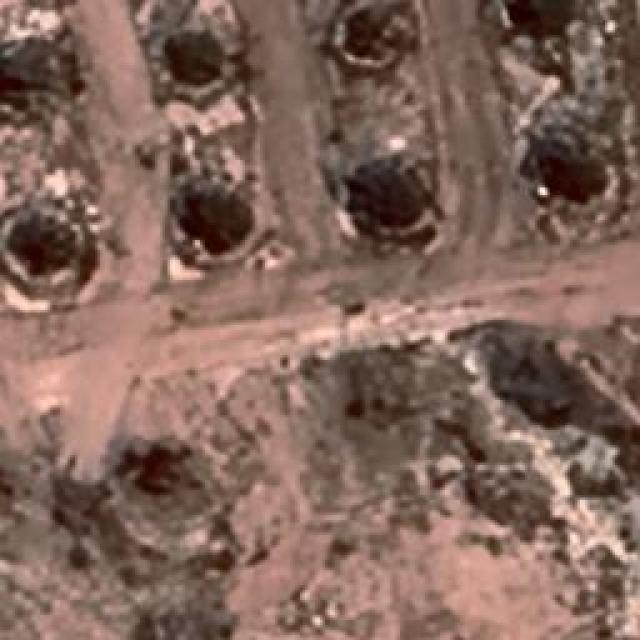PalmTree: (68, 21, 546, 92), (12, 92, 68, 473), (164, 178, 254, 272), (518, 140, 610, 212), (150, 41, 235, 99), (2, 228, 86, 278), (0, 54, 58, 124), (344, 172, 412, 230), (339, 4, 389, 54)
